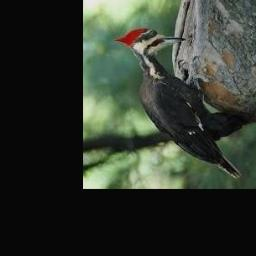Woodpecker: (114, 28, 243, 177)
